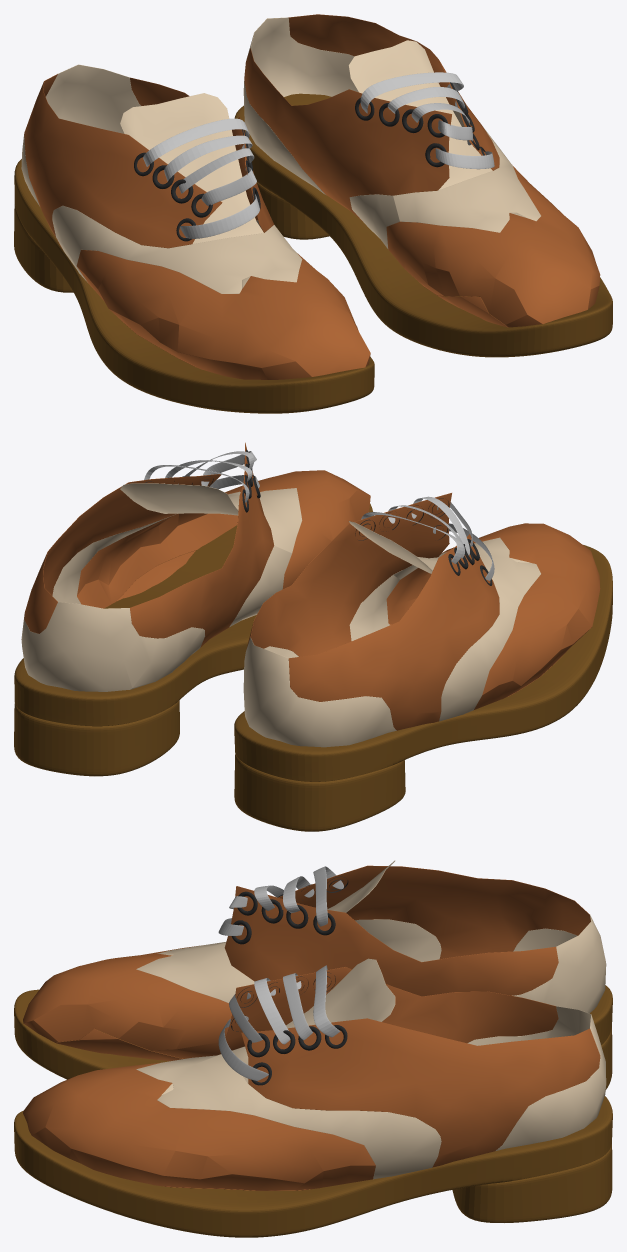
The picture shows the model from 3 angles, top to bottom: view 1: azimuth 30°, elevation 25°; view 2: azimuth 150°, elevation 25°; view 3: azimuth 270°, elevation 25°; orthographic projection.
Parts seen in each view (by area): view 1: zapato2.001, zapato2, Plane, Plane.011, Plane.007, Plane.004, Plane.006, Plane.008, Plane.003, Plane.010, Plane.009, Plane.005; view 2: zapato2.001, zapato2, Plane.011, Plane, Plane.010; view 3: zapato2, zapato2.001, Plane, Plane.011, Plane.001, Plane.003, Plane.004, Plane.007, Plane.005, Plane.008, Plane.002.
Boxes of the visible parts, left/top/right/bottom form: zapato2.001: left=21, top=64, right=370, bottom=379; zapato2: left=243, top=14, right=600, bottom=327; Plane: left=234, top=93, right=612, bottom=357; Plane.011: left=14, top=159, right=374, bottom=413; Plane.007: left=143, top=118, right=249, bottom=166; Plane.004: left=360, top=72, right=463, bottom=113; Plane.006: left=180, top=194, right=259, bottom=238; Plane.008: left=164, top=135, right=252, bottom=181; Plane.003: left=387, top=87, right=464, bottom=113; Plane.010: left=179, top=148, right=254, bottom=193; Plane.009: left=201, top=167, right=256, bottom=206; Plane.005: left=435, top=148, right=494, bottom=169; zapato2.001: left=243, top=493, right=600, bottom=747; zapato2: left=21, top=442, right=370, bottom=691; Plane.011: left=234, top=545, right=612, bottom=831; Plane: left=14, top=503, right=373, bottom=776; Plane.010: left=411, top=496, right=469, bottom=555; zapato2: left=23, top=958, right=606, bottom=1190; zapato2.001: left=23, top=860, right=606, bottom=1060; Plane: left=14, top=1096, right=612, bottom=1237; Plane.011: left=14, top=985, right=612, bottom=1089; Plane.001: left=254, top=978, right=290, bottom=1044; Plane.003: left=283, top=973, right=312, bottom=1040; Plane.004: left=313, top=965, right=340, bottom=1037; Plane.007: left=313, top=866, right=343, bottom=926; Plane.005: left=218, top=1016, right=268, bottom=1080; Plane.008: left=283, top=876, right=314, bottom=913; Plane.002: left=229, top=992, right=262, bottom=1042.
Size of the model in its own units: 390 by 176 by 447.
